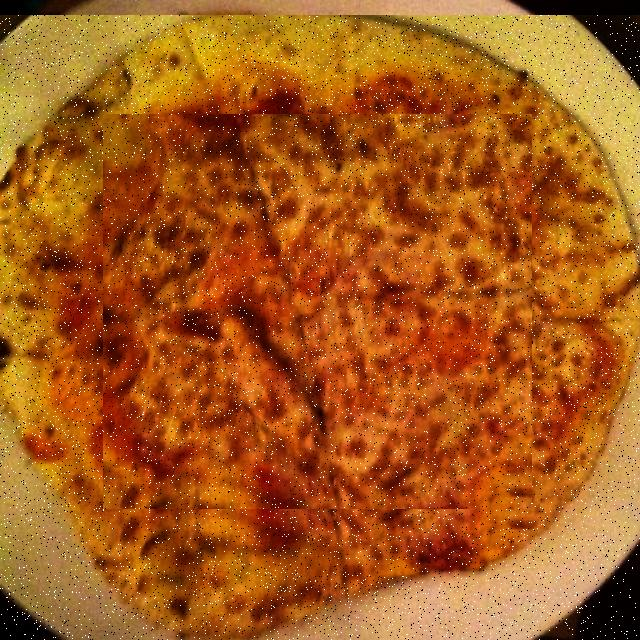Basil: (0, 15, 640, 640)
Cheese: (103, 114, 532, 509)
